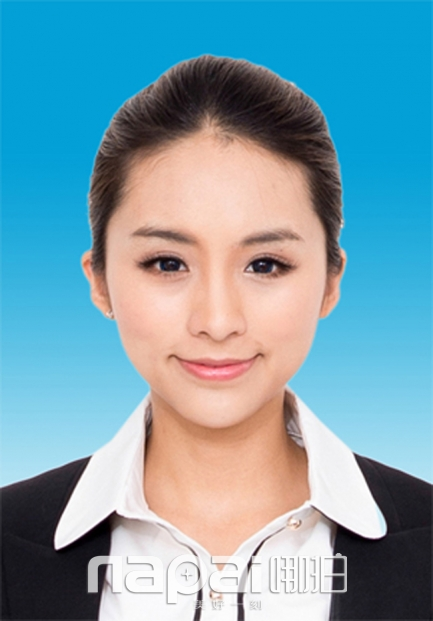unmask: (110, 166, 321, 418)
